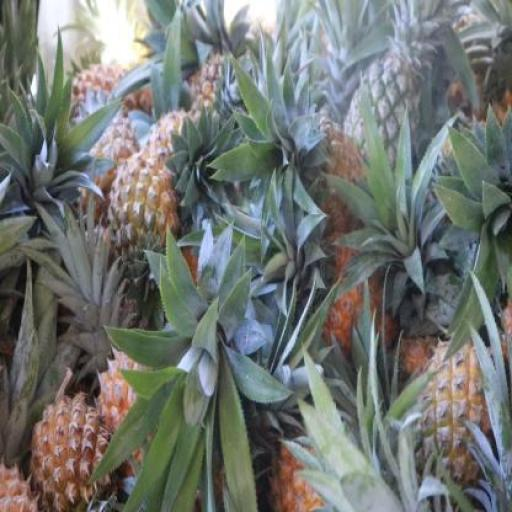------------------------------: (411, 342, 495, 494), (106, 148, 173, 282)
Pineapple - v8 v1: (30, 394, 107, 512)
